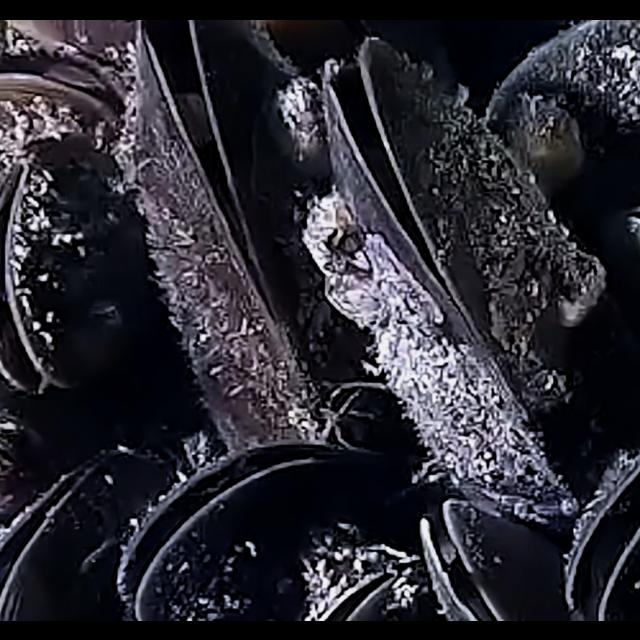Oyster-Closed: (480, 18, 640, 290)
Oyster-Open: (306, 33, 630, 523), (118, 19, 382, 455), (120, 438, 396, 620), (0, 138, 140, 394), (0, 446, 190, 620), (0, 35, 136, 178), (422, 496, 576, 620), (567, 446, 640, 620), (318, 558, 407, 620)
